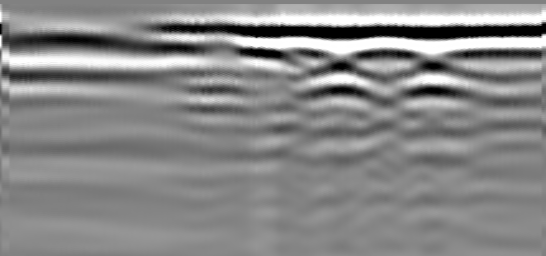pipe: (18, 20, 164, 53)
